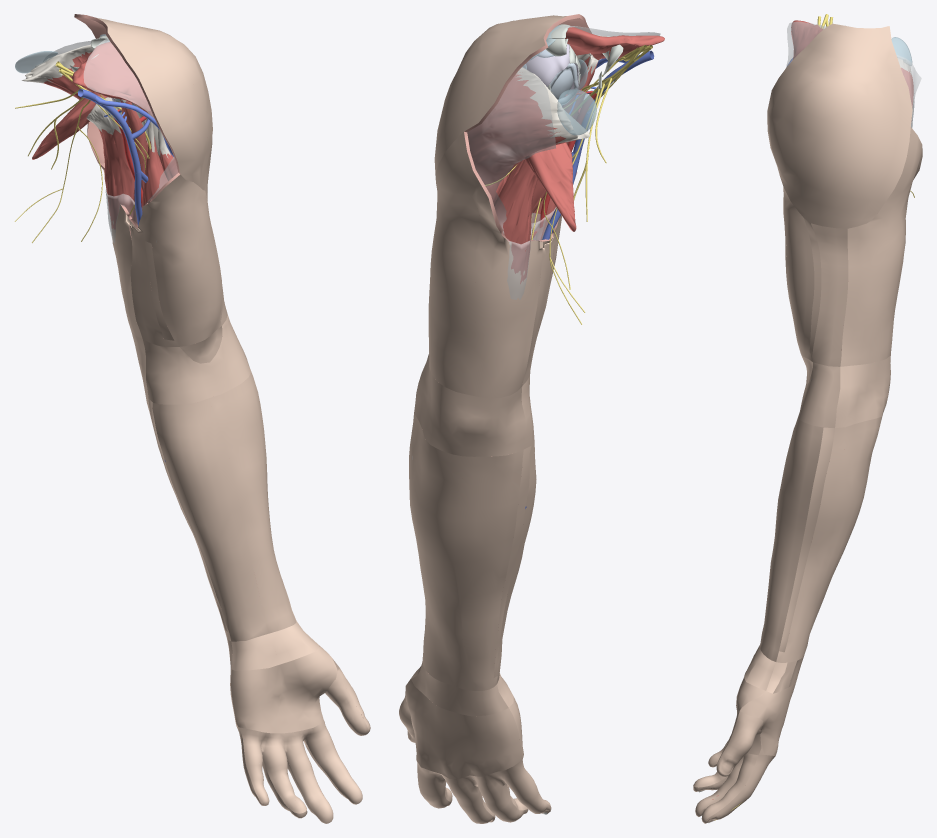
File: upper_limb_l.glb
The picture shows the model from 3 angles, left to right: view 1: azimuth 30°, elevation 25°; view 2: azimuth 150°, elevation 25°; view 3: azimuth 270°, elevation 25°; orthographic projection. The views are drawn at different scales.
Visible parts, largest first — view 1: anterior_region_of_forearm_l, anterior_region_of_arm_l, deltoid_region_l, palmar_surfaces_of_digits_of_hand_l, palm_l, anterior_region_of_elbow_l, clavicular_part_of_deltoid_muscle_l, long_head_of_triceps_brachii_l, deltoid_fascia_l, anterior_region_of_wrist_l, posterior_region_of_arm_l, scapular_spinal_part_of_deltoid_muscle_l (+8 smaller); view 2: posterior_region_of_forearm_l, posterior_region_of_arm_l, deltoid_region_l, scapular_spinal_part_of_deltoid_muscle_l, dorsum_of_hand_l, posterior_region_of_elbow_l, deltoid_fascia_l, dorsal_surfaces_of_digits_of_hand_l, long_head_of_triceps_brachii_l, teres_minor_muscle_l, posterior_region_of_wrist_l, brachial_fascia_l (+11 smaller); view 3: deltoid_region_l, posterior_region_of_arm_l, posterior_region_of_forearm_l, anterior_region_of_arm_l, anterior_region_of_forearm_l, posterior_region_of_elbow_l, dorsal_surfaces_of_digits_of_hand_l, lateral_border_of_forearm_l, anterior_region_of_elbow_l, palmar_surfaces_of_digits_of_hand_l, dorsum_of_hand_l, deltoid_fascia_l (+5 smaller).
Boxes of the visible parts, left/top/right/bottom form: anterior_region_of_forearm_l: left=152, top=369, right=296, bottom=641; anterior_region_of_arm_l: left=129, top=173, right=227, bottom=346; deltoid_region_l: left=74, top=14, right=212, bottom=190; palmar_surfaces_of_digits_of_hand_l: left=238, top=671, right=368, bottom=822; palm_l: left=231, top=645, right=337, bottom=733; anterior_region_of_elbow_l: left=143, top=314, right=250, bottom=404; clavicular_part_of_deltoid_muscle_l: left=72, top=42, right=153, bottom=117; long_head_of_triceps_brachii_l: left=86, top=97, right=134, bottom=229; deltoid_fascia_l: left=54, top=39, right=153, bottom=117; anterior_region_of_wrist_l: left=231, top=621, right=319, bottom=670; posterior_region_of_arm_l: left=87, top=121, right=142, bottom=338; scapular_spinal_part_of_deltoid_muscle_l: left=22, top=44, right=93, bottom=99; posterior_region_of_forearm_l: left=409, top=413, right=523, bottom=690; posterior_region_of_arm_l: left=428, top=131, right=542, bottom=398; deltoid_region_l: left=434, top=14, right=594, bottom=173; scapular_spinal_part_of_deltoid_muscle_l: left=467, top=67, right=589, bottom=186; dorsum_of_hand_l: left=405, top=676, right=522, bottom=778; posterior_region_of_elbow_l: left=414, top=354, right=525, bottom=456; deltoid_fascia_l: left=467, top=26, right=660, bottom=188; dorsal_surfaces_of_digits_of_hand_l: left=399, top=693, right=551, bottom=823; long_head_of_triceps_brachii_l: left=494, top=142, right=566, bottom=283; teres_minor_muscle_l: left=524, top=142, right=576, bottom=231; posterior_region_of_wrist_l: left=411, top=664, right=508, bottom=716; brachial_fascia_l: left=487, top=176, right=556, bottom=299; deltoid_region_l: left=767, top=23, right=912, bottom=228; posterior_region_of_arm_l: left=840, top=127, right=922, bottom=366; posterior_region_of_forearm_l: left=776, top=415, right=882, bottom=662; anterior_region_of_arm_l: left=783, top=187, right=848, bottom=366; anterior_region_of_forearm_l: left=760, top=418, right=823, bottom=661; posterior_region_of_elbow_l: left=835, top=353, right=890, bottom=427; dorsal_surfaces_of_digits_of_hand_l: left=693, top=711, right=775, bottom=823; lateral_border_of_forearm_l: left=779, top=427, right=834, bottom=652; anterior_region_of_elbow_l: left=798, top=362, right=840, bottom=427; palmar_surfaces_of_digits_of_hand_l: left=693, top=711, right=758, bottom=821; dorsum_of_hand_l: left=740, top=683, right=795, bottom=755; deltoid_fascia_l: left=786, top=21, right=921, bottom=127.
Size of the model in its own units: 0.2602 by 0.7376 by 0.2113.
